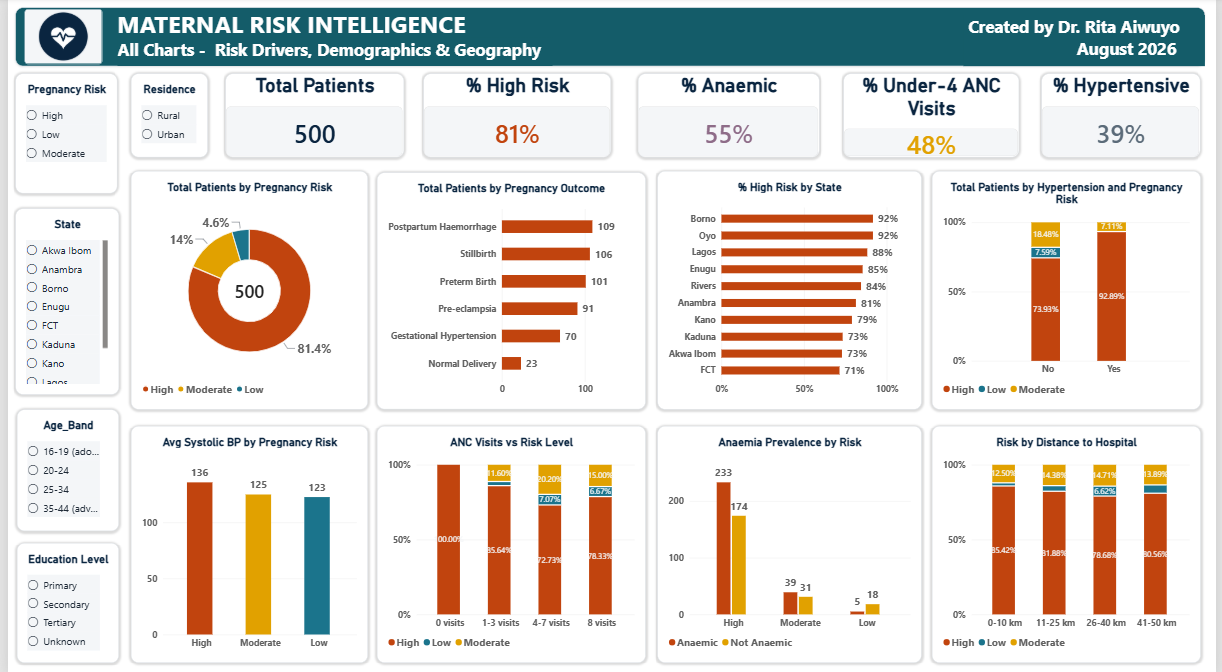

The page's visual inventory and layout, read from the dashboard file:
{"tool":"powerbi","page":{"name":"Page 1","canvas":[1920,1080],"ordinal":0},"visuals":[{"type":"textbox","box":[11.9,16.7,1892,93.1],"z":0},{"type":"image","box":[26.2,19.1,124.1,88.3],"z":1000},{"type":"textbox","box":[174.2,64.4,691.9,45.3],"z":2000},{"type":"textbox","box":[1519.8,28.6,384.1,81.1],"z":3000},{"type":"cardVisual","title":"Total Patients","fields":{"Data":["Patients.Total Patients"]},"box":[346,121.7,283.9,133.6],"z":4000},{"type":"cardVisual","title":"% Hypertensive","fields":{"Data":["Patients.% Hypertensive"]},"box":[1643.9,121.7,252.9,133.6],"z":5000},{"type":"cardVisual","title":"% Under-4 ANC Visits","fields":{"Data":["Patients.% Under-4 ANC Visits"]},"box":[1329,121.7,279.2,133.6],"z":6000},{"type":"cardVisual","title":"% Anaemic","fields":{"Data":["Patients.% Anaemic"]},"box":[1002.1,121.7,288.7,133.6],"z":7000},{"type":"cardVisual","title":"% High Risk","fields":{"Data":["Patients.% High Risk"]},"box":[660.9,121.7,298.2,133.6],"z":8000},{"type":"donutChart","title":"Total Patients by Pregnancy Risk","fields":{"Category":["Patients.Pregnancy Risk"],"Y":["Patients.Total Patients"]},"box":[195.6,276.8,377,379.4],"z":9000},{"type":"clusteredBarChart","fields":{"Category":["Patients.Pregnancy Outcome"],"Y":["Patients.Total Patients"]},"box":[586.9,279.2,427.1,377],"z":10000},{"type":"clusteredBarChart","fields":{"Category":["Patients.State"],"Y":["Patients.% High Risk"]},"box":[1033.1,276.8,419.9,379.4],"z":11000},{"type":"hundredPercentStackedColumnChart","fields":{"Category":["Patients.Hypertension"],"Series":["Patients.Pregnancy Risk"],"Y":["Patients.Total Patients"]},"box":[1469.7,276.8,427.1,379.4],"z":12000},{"type":"clusteredColumnChart","fields":{"Category":["Patients.Pregnancy Risk"],"Y":["Patients.Avg Systolic BP"]},"box":[195.6,682.4,377,377],"z":13000},{"type":"hundredPercentStackedColumnChart","title":"ANC Visits vs Risk Level","fields":{"Category":["Patients.ANC_Band"],"Series":["Patients.Pregnancy Risk"],"Y":["Patients.Total Patients"]},"box":[586.9,682.4,427.1,377],"z":14000},{"type":"clusteredColumnChart","title":"Anaemia Prevalence by Risk","fields":{"Category":["Patients.Pregnancy Risk"],"Y":["Patients.Total Patients"],"Series":["Patients.Anaemic"]},"box":[1033.1,682.4,419.9,377],"z":15000},{"type":"hundredPercentStackedColumnChart","title":"Risk by Distance to Hospital","fields":{"Category":["Patients.Distance_Band"],"Y":["Patients.Total Patients"],"Series":["Patients.Pregnancy Risk"]},"box":[1469.7,682.4,427.1,377],"z":16000},{"type":"listSlicer","fields":{"Values":["Patients.State"]},"box":[11.9,336.4,164.6,295.9],"z":17000},{"type":"listSlicer","fields":{"Values":["Patients.Pregnancy Risk"]},"box":[11.9,121.7,162.2,190.9],"z":18000},{"type":"listSlicer","fields":{"Values":["Patients.Residence"]},"box":[195.6,121.7,121.7,133.6],"z":19000},{"type":"listSlicer","fields":{"Values":["Patients.Age_Band"]},"box":[14.3,656.1,162.2,193.3],"z":20000},{"type":"listSlicer","fields":{"Values":["Patients.Education Level"]},"box":[14.3,868.5,162.2,190.9],"z":21000}]}

Visuals, with their boxes in screenshot pixels (x1, y1, x2, y2), scaled from the page's 1920x1080 canvas onto the 1222x672 screenshot:
textbox: locate(8, 10, 1212, 68)
image: locate(17, 12, 96, 67)
textbox: locate(111, 40, 551, 68)
textbox: locate(967, 18, 1212, 68)
"Total Patients" cardVisual: locate(220, 76, 401, 159)
"% Hypertensive" cardVisual: locate(1046, 76, 1207, 159)
"% Under-4 ANC Visits" cardVisual: locate(846, 76, 1024, 159)
"% Anaemic" cardVisual: locate(638, 76, 822, 159)
"% High Risk" cardVisual: locate(421, 76, 610, 159)
"Total Patients by Pregnancy Risk" donutChart: locate(124, 172, 364, 408)
clusteredBarChart - Patients.Pregnancy Outcome x Patients.Total Patients: locate(374, 174, 645, 408)
clusteredBarChart - Patients.State x Patients.% High Risk: locate(658, 172, 925, 408)
hundredPercentStackedColumnChart - Patients.Hypertension x Patients.Pregnancy Risk: locate(935, 172, 1207, 408)
clusteredColumnChart - Patients.Pregnancy Risk x Patients.Avg Systolic BP: locate(124, 425, 364, 659)
"ANC Visits vs Risk Level" hundredPercentStackedColumnChart: locate(374, 425, 645, 659)
"Anaemia Prevalence by Risk" clusteredColumnChart: locate(658, 425, 925, 659)
"Risk by Distance to Hospital" hundredPercentStackedColumnChart: locate(935, 425, 1207, 659)
listSlicer - Patients.State: locate(8, 209, 112, 393)
listSlicer - Patients.Pregnancy Risk: locate(8, 76, 111, 195)
listSlicer - Patients.Residence: locate(124, 76, 202, 159)
listSlicer - Patients.Age_Band: locate(9, 408, 112, 529)
listSlicer - Patients.Education Level: locate(9, 540, 112, 659)
